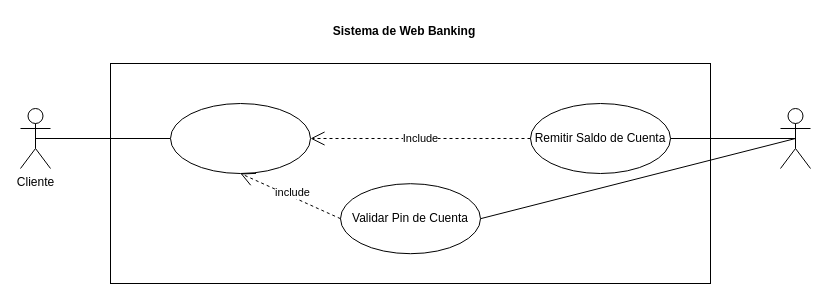
This 830x301 diagram has some shape labels left out. The centre of each missing label's shape, as x and y in pixels:
Banco: [795,138]
Obtener Saldo: [240,138]
